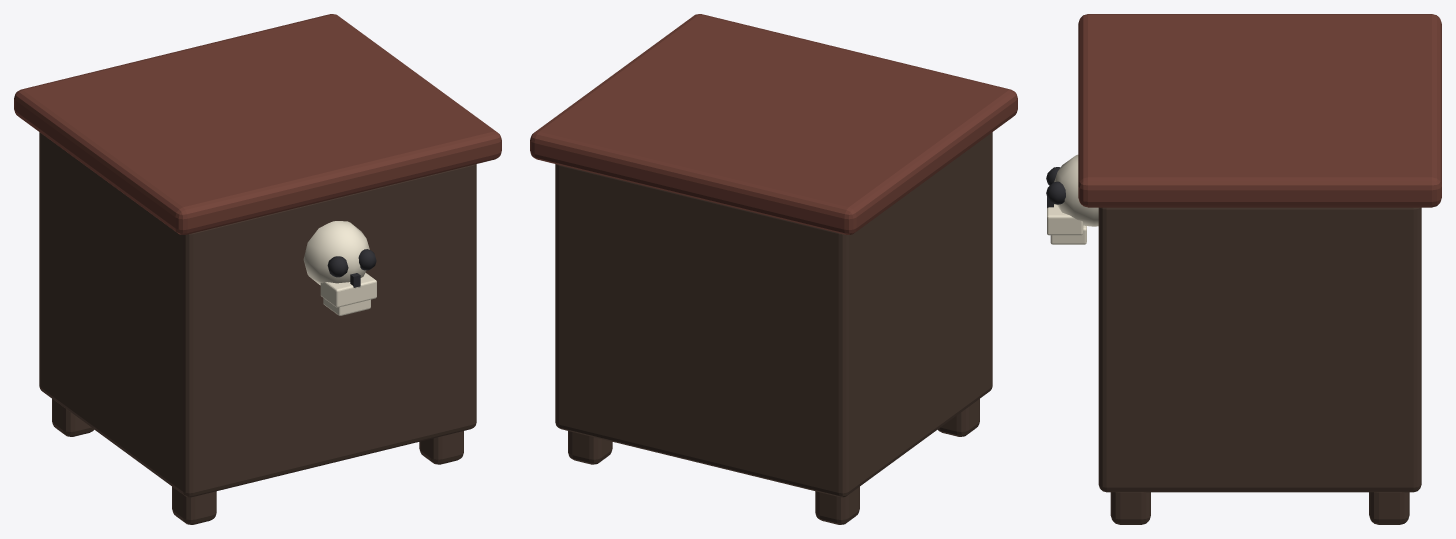
The model's file is nightstand_skull_stand.glb.
3 views of the same model, side by side, from view 1: azimuth 30°, elevation 25°; view 2: azimuth 150°, elevation 25°; view 3: azimuth 270°, elevation 25° (orthographic). The views are drawn at different scales.
Visible parts, largest first — view 1: GD_nightstand_skull_stand__m0, GD_nightstand_skull_stand__m1, GD_nightstand_skull_stand__m2, GD_nightstand_skull_stand__m3; view 2: GD_nightstand_skull_stand__m0, GD_nightstand_skull_stand__m1; view 3: GD_nightstand_skull_stand__m0, GD_nightstand_skull_stand__m1, GD_nightstand_skull_stand__m2, GD_nightstand_skull_stand__m3.
Boxes of the visible parts, x1,y1,x2,y2 form: GD_nightstand_skull_stand__m0: (39, 132, 476, 524); GD_nightstand_skull_stand__m1: (14, 14, 501, 234); GD_nightstand_skull_stand__m2: (303, 221, 376, 315); GD_nightstand_skull_stand__m3: (327, 249, 376, 287); GD_nightstand_skull_stand__m0: (555, 132, 992, 524); GD_nightstand_skull_stand__m1: (530, 14, 1017, 234); GD_nightstand_skull_stand__m0: (1098, 207, 1421, 524); GD_nightstand_skull_stand__m1: (1078, 14, 1441, 207); GD_nightstand_skull_stand__m2: (1047, 154, 1098, 244); GD_nightstand_skull_stand__m3: (1046, 167, 1065, 207).
Size of the model in its own units: 0.5 by 0.49 by 0.4899.
